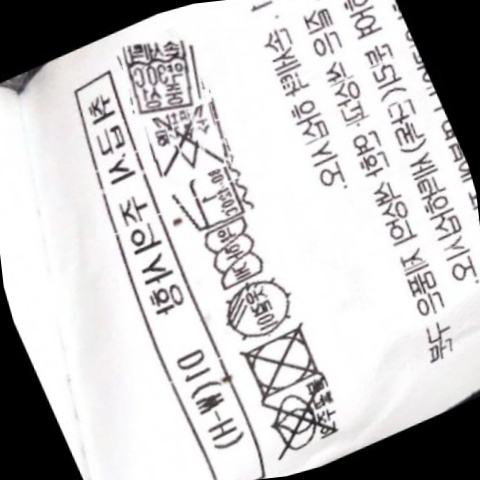DN_tumble_dry: (232, 318, 333, 404)
hand_wash: (113, 30, 210, 121)
iron_low: (170, 160, 253, 237)
line_dry_in_shade: (211, 270, 305, 347)
wring: (199, 213, 272, 294)
